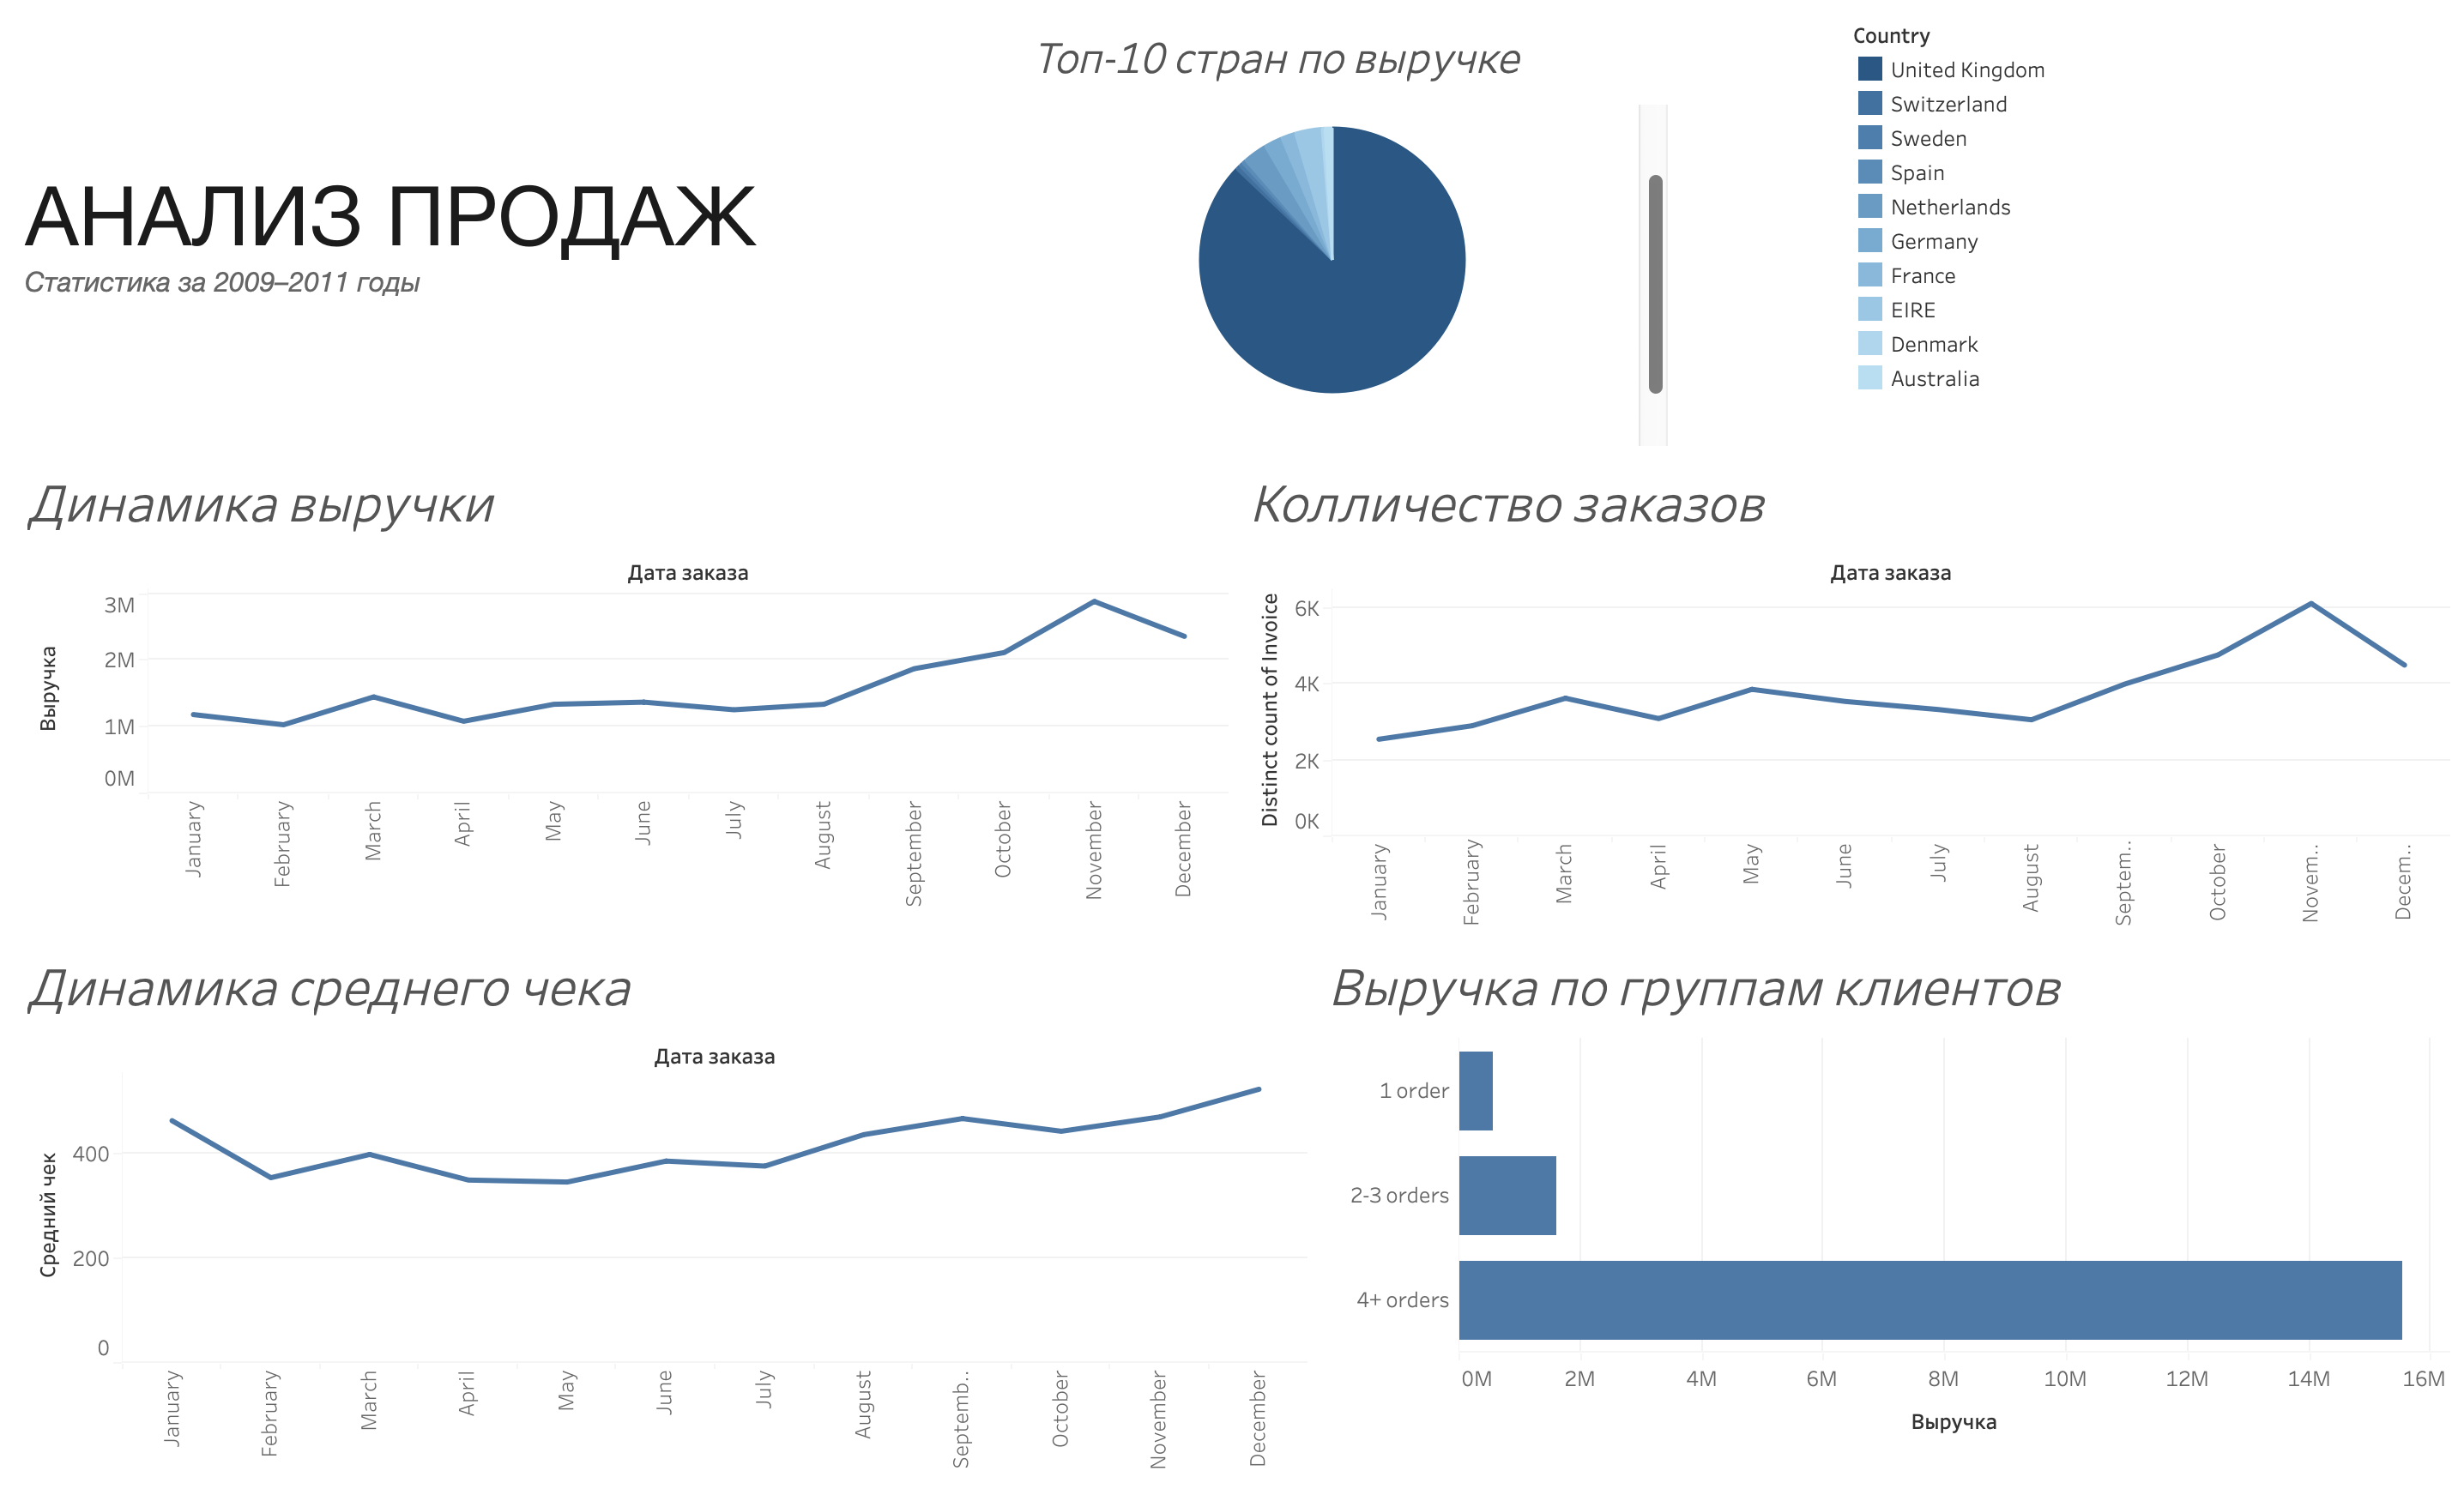

Layout of this report page (visuals, bound fields, positions):
{"tool":"tableau","page":{"name":"Dashboard 2","canvas":[1000,1000],"units":"permille","ordinal":1},"visuals":[{"type":"text","box":[6.5,9.9,406.2,293.3]},{"type":"worksheet","title":"страны","mark":"Pie","box":[412.7,9.9,334.1,293.3]},{"type":"legend","title":"страны","param":"[federated.166cv0r1c3vuhg18nlqhf08mexfd].[none:Country:nk]","box":[746.7,9.9,246.8,279.7]},{"type":"worksheet","title":"Выручка","mark":"Line","rows":["Calculation_5224316541939713"],"cols":["InvoiceDate"],"box":[6.5,303.2,493.5,324.2]},{"type":"worksheet","title":"Кол-во заказов","mark":"Line","rows":["Invoice"],"cols":["InvoiceDate"],"box":[500,303.2,493.5,324.2]},{"type":"worksheet","title":"Динамика","mark":"Automatic","rows":["Calculation_5224316546043906"],"cols":["InvoiceDate"],"box":[6.5,627.4,525.5,362.7]},{"type":"worksheet","title":"Sheet 5","mark":"Bar","rows":["CustomerGroup"],"cols":["Revenue"],"box":[532,627.4,461.5,362.7]}]}

Visuals, with their boxes on the dashboard's canvas, which has no fixed pixel size, in thousandths of its width and height (x1, y1, x2, y2). These are canvas units, not pixel positions in the 2464x1489 screenshot, which may show the page scaled, cropped or inside an application window:
text: pyautogui.locateOnScreen(6, 10, 413, 303)
"страны" worksheet (Pie marks): pyautogui.locateOnScreen(413, 10, 747, 303)
"страны" legend: pyautogui.locateOnScreen(747, 10, 994, 290)
"Выручка" worksheet (Line marks): pyautogui.locateOnScreen(6, 303, 500, 627)
"Кол-во заказов" worksheet (Line marks): pyautogui.locateOnScreen(500, 303, 994, 627)
"Динамика" worksheet: pyautogui.locateOnScreen(6, 627, 532, 990)
"Sheet 5" worksheet (Bar marks): pyautogui.locateOnScreen(532, 627, 994, 990)
